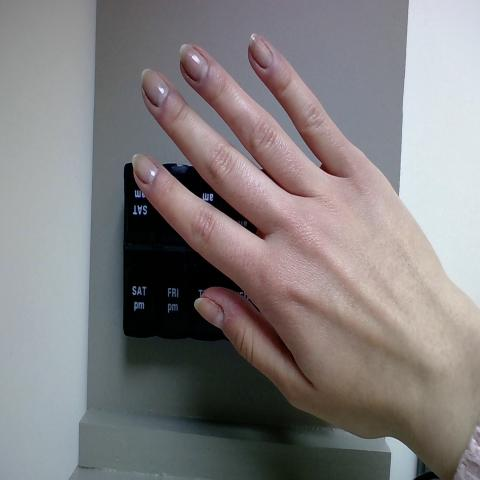FRI-pm: (159, 254, 188, 335)
Hands: (122, 17, 479, 456)
SAT-pm: (124, 253, 155, 336)
